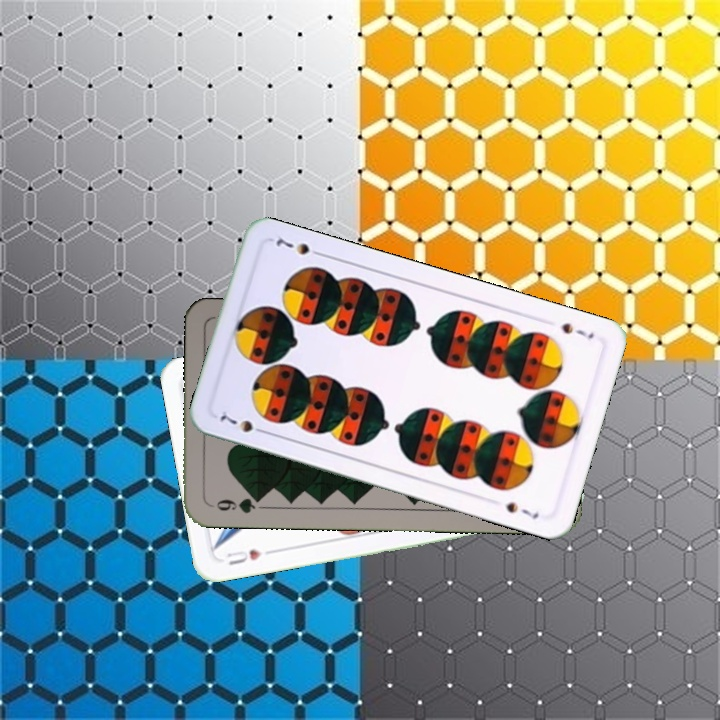G9: (212, 492, 265, 515)
HU: (222, 545, 276, 568)
S7: (216, 410, 270, 437), (557, 319, 597, 343)
